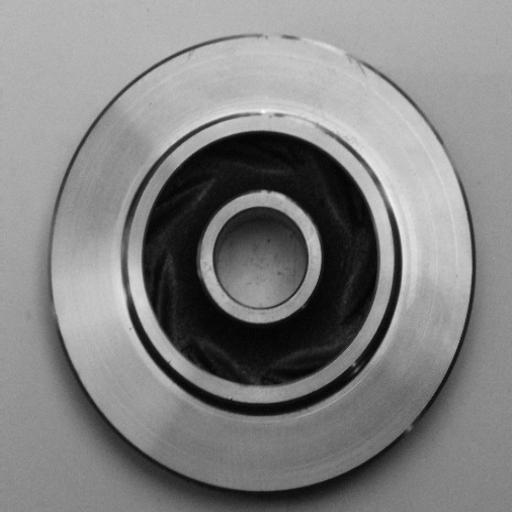scratch: (265, 25, 382, 83), (250, 99, 341, 142)
unpolished_casting: (47, 33, 474, 502)
